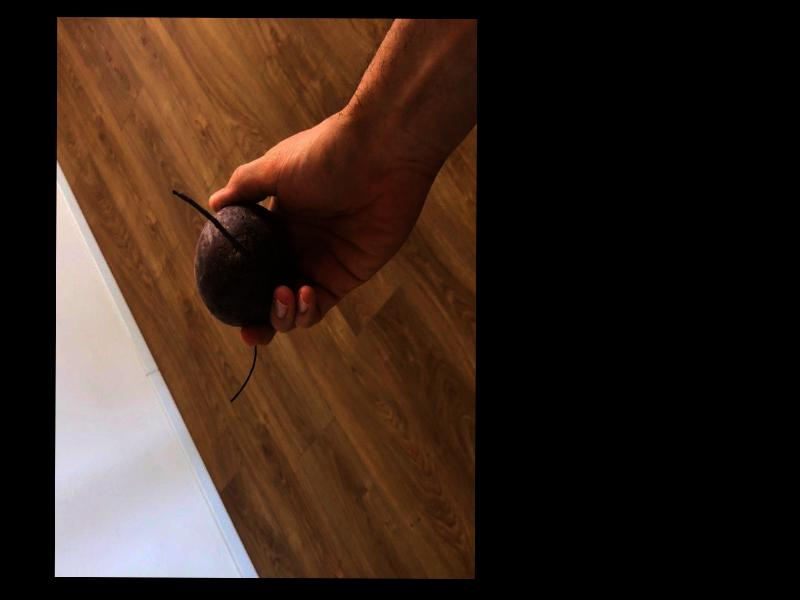Beet: (172, 191, 293, 403)
